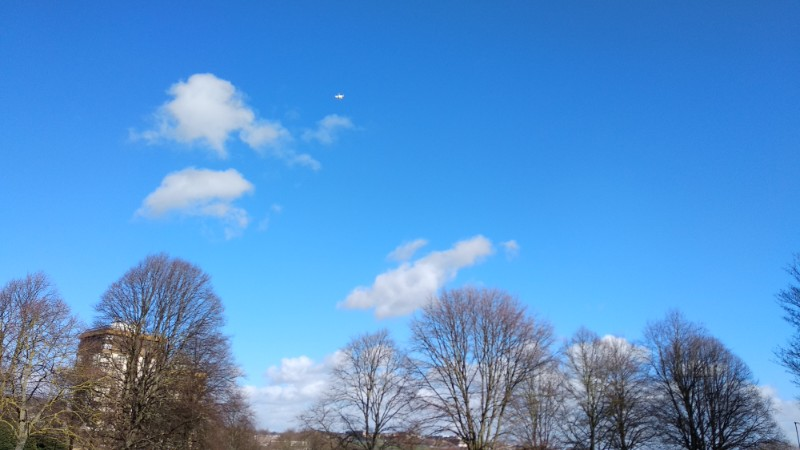drone: (334, 92, 345, 101)
